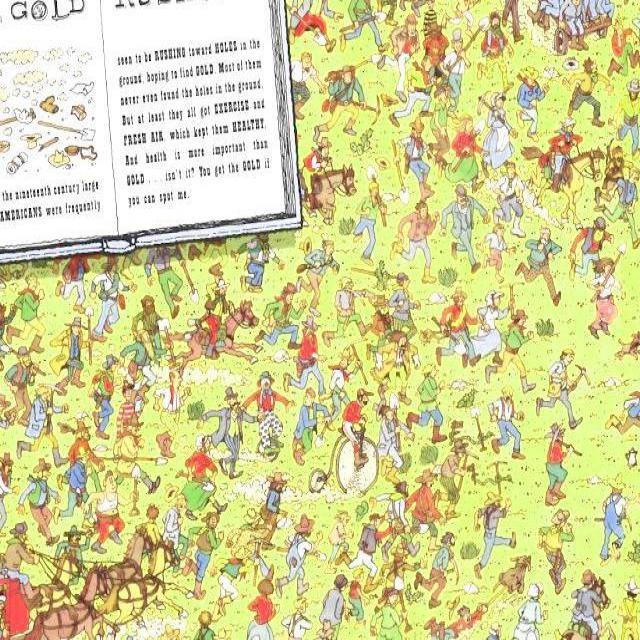waldo: (121, 380, 135, 401)
